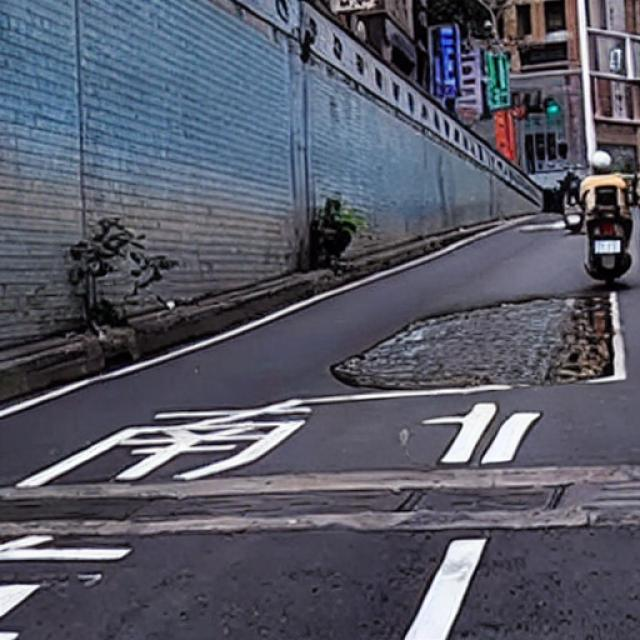puddle: (332, 294, 618, 388)
